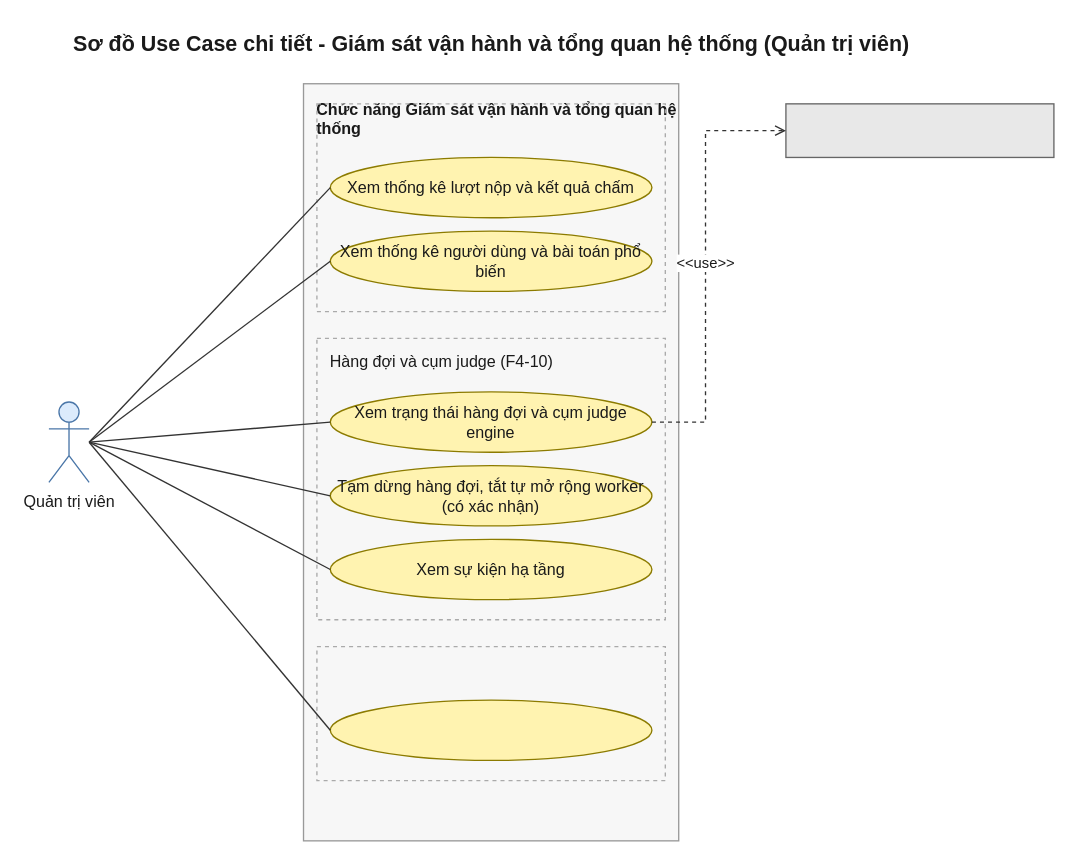
This 1077x864 diagram has some shape labels left out. Here are the shapes that lost their labels. From the top down, the box of each, then its label:
(785, 103, 1054, 157): go-judge
(316, 103, 665, 312): Tổng quan vận hành (F1-29)
(316, 645, 665, 781): Bài nộp treo (F4-07)
(329, 699, 652, 760): Quét và phát hiện bài nộp treo quá ngưỡng
